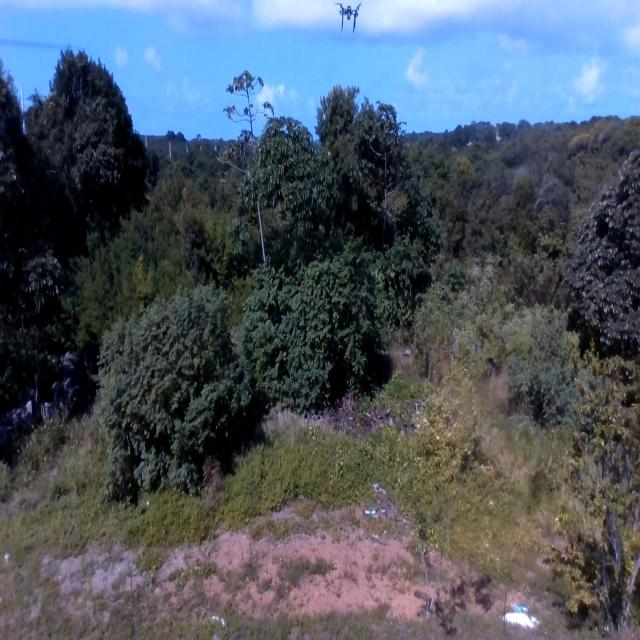-uav-: (331, 3, 372, 37)
